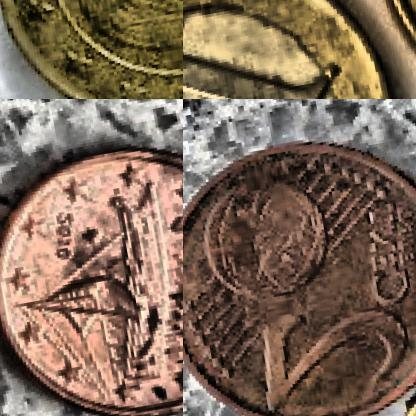coin: (183, 109, 415, 415), (0, 123, 182, 415), (183, 0, 415, 98), (0, 0, 182, 98)
